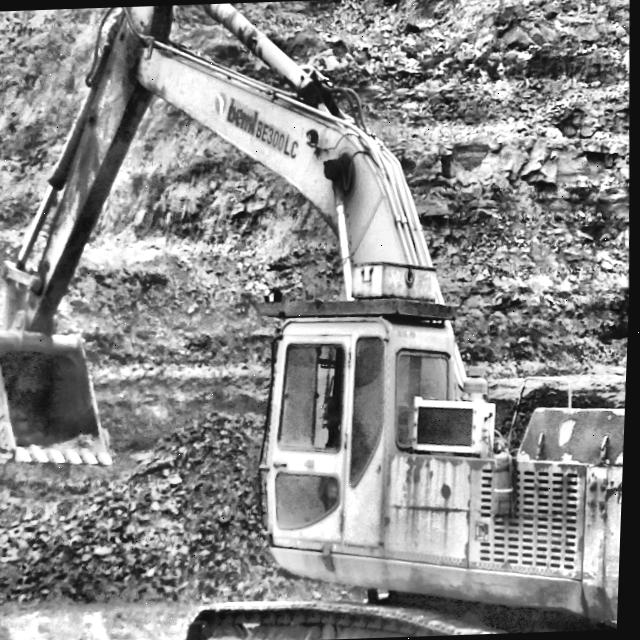excavator: (0, 3, 628, 640)
